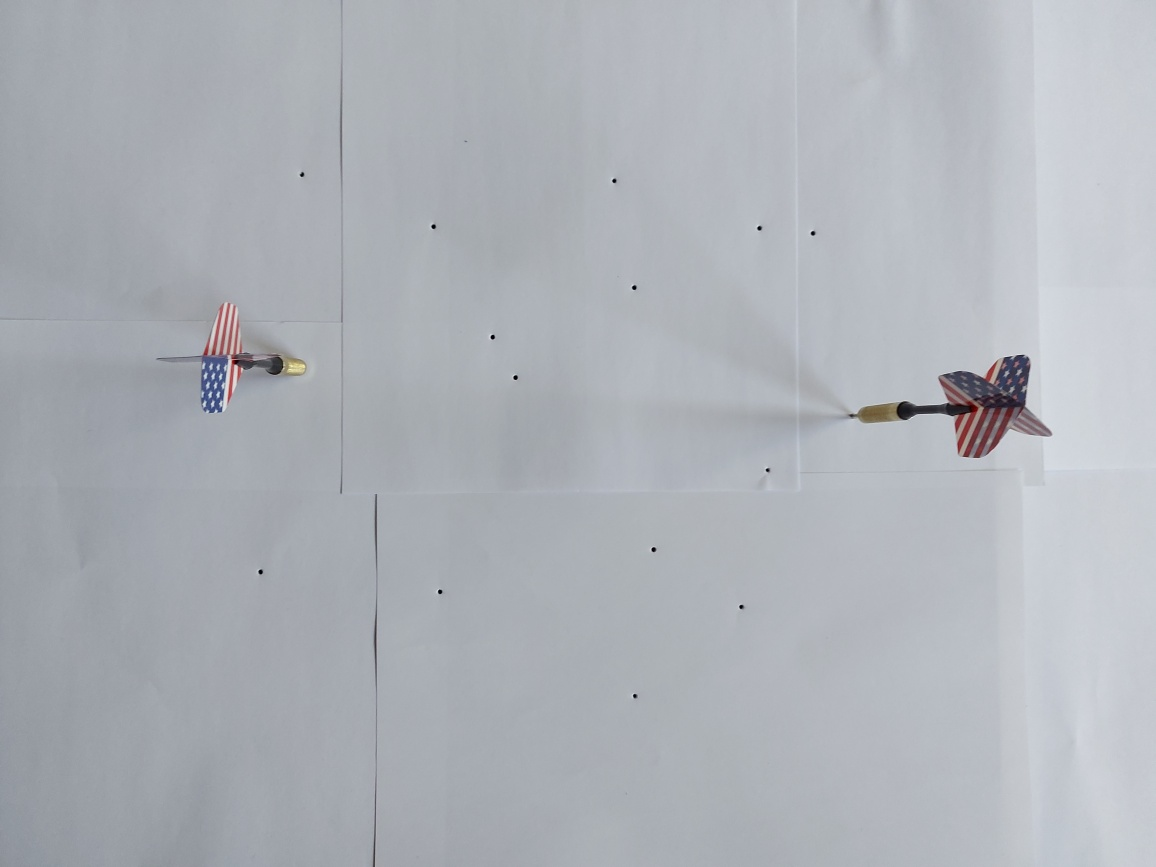Dart: (838, 348, 1060, 473), (150, 297, 316, 421)
